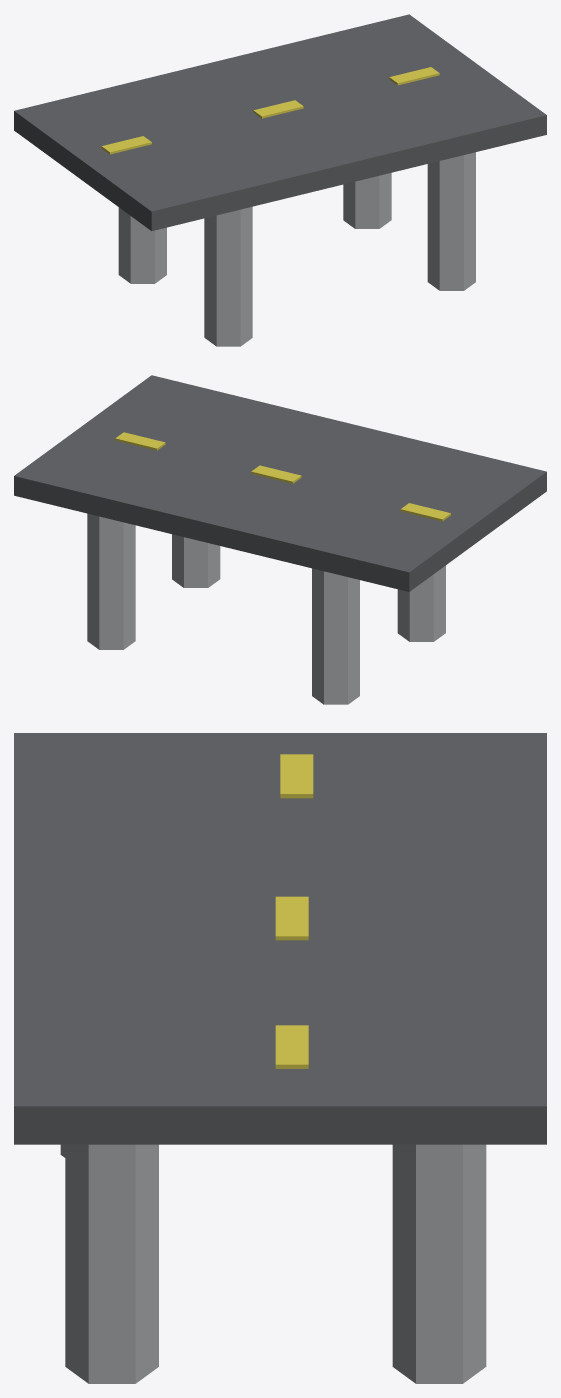
The model's file is BridgeSegment.glb.
The picture shows the model from 3 angles, top to bottom: view 1: azimuth 30°, elevation 25°; view 2: azimuth 150°, elevation 25°; view 3: azimuth 270°, elevation 25°; orthographic projection. The views are drawn at different scales.
Visible parts, largest first — view 1: Mesh_Mesh_head_geo.001_lambert2SG.001; view 2: Mesh_Mesh_head_geo.001_lambert2SG.001; view 3: Mesh_Mesh_head_geo.001_lambert2SG.001.
Boxes of the visible parts, x1,y1,x2,y2 form: Mesh_Mesh_head_geo.001_lambert2SG.001: [14, 14, 546, 346]; Mesh_Mesh_head_geo.001_lambert2SG.001: [14, 375, 546, 704]; Mesh_Mesh_head_geo.001_lambert2SG.001: [14, 733, 546, 1383].
Bounding box in the file's own units: 0.189 × 0.078 × 0.114.
